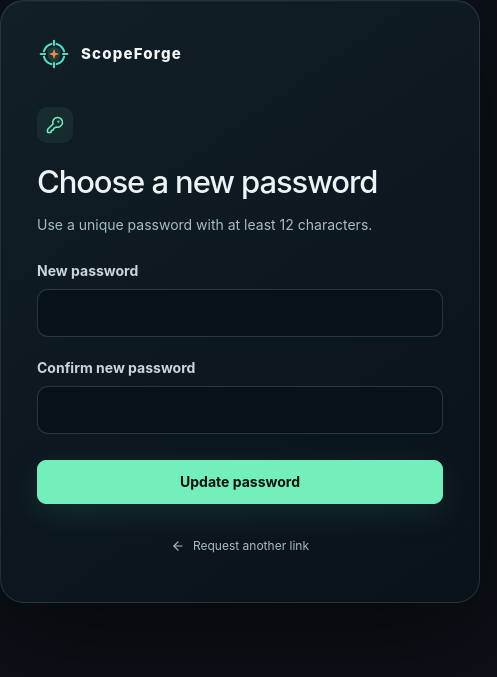
password recovery › does not submit an invalid or mismatched new password
Type "short" into the password field labelled "New password" at (240, 313), box [37,289,443,337]
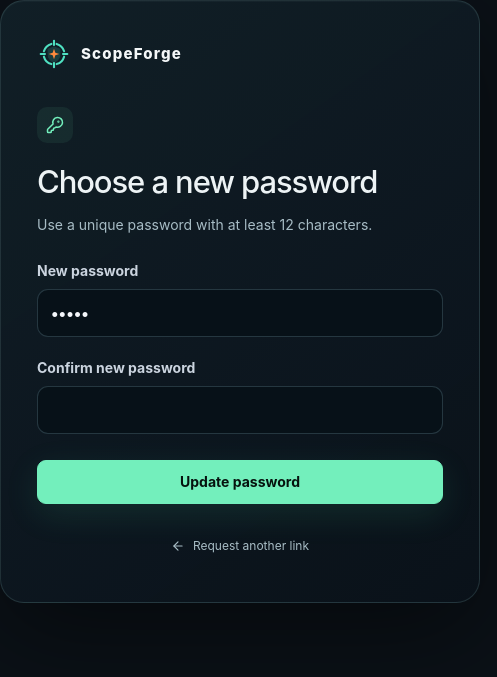
Type "different" into the password field labelled "Confirm new password" at (240, 410), box [37,386,443,434]
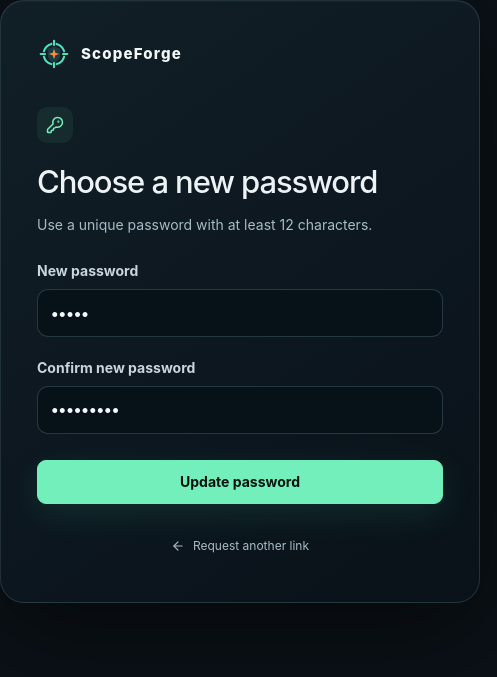
Click the button "Update password" at (240, 482), box [37,460,443,504]
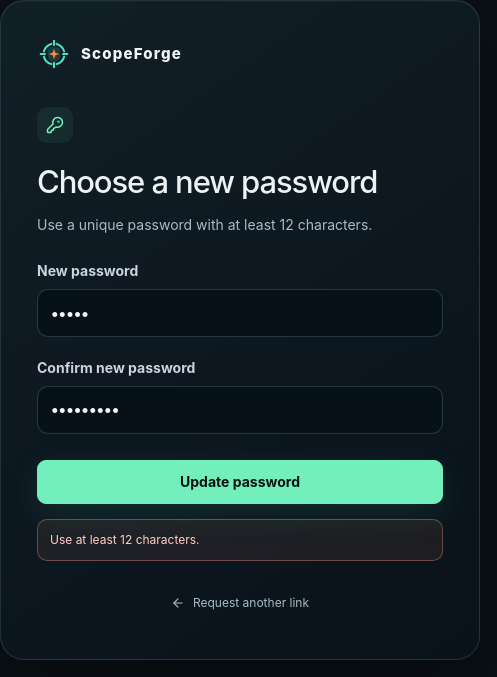
Result: the message reads "Use at least 12 characters." at [50,532,200,547]
